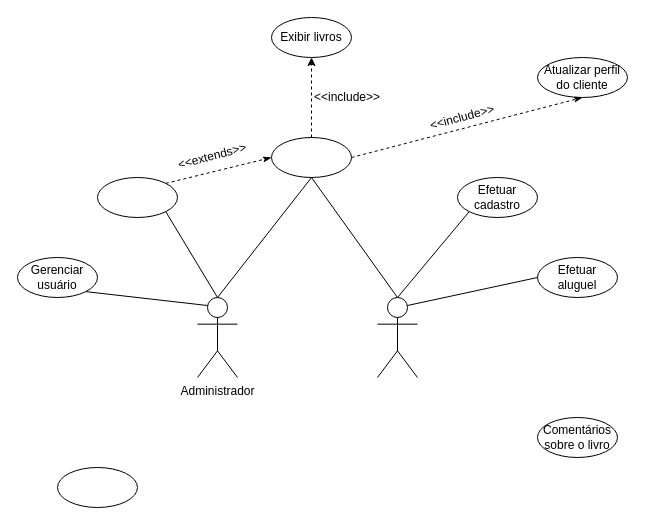
Some shapes in this 645 by 525 pixel diagram are drawn without their labels. The box of each missing label's shape, as (x1, y1, x2, y2) in pixels:
Buscar livros: (270, 136, 352, 178)
Cliente: (376, 296, 418, 378)
Gerenciar livros: (96, 176, 178, 218)
